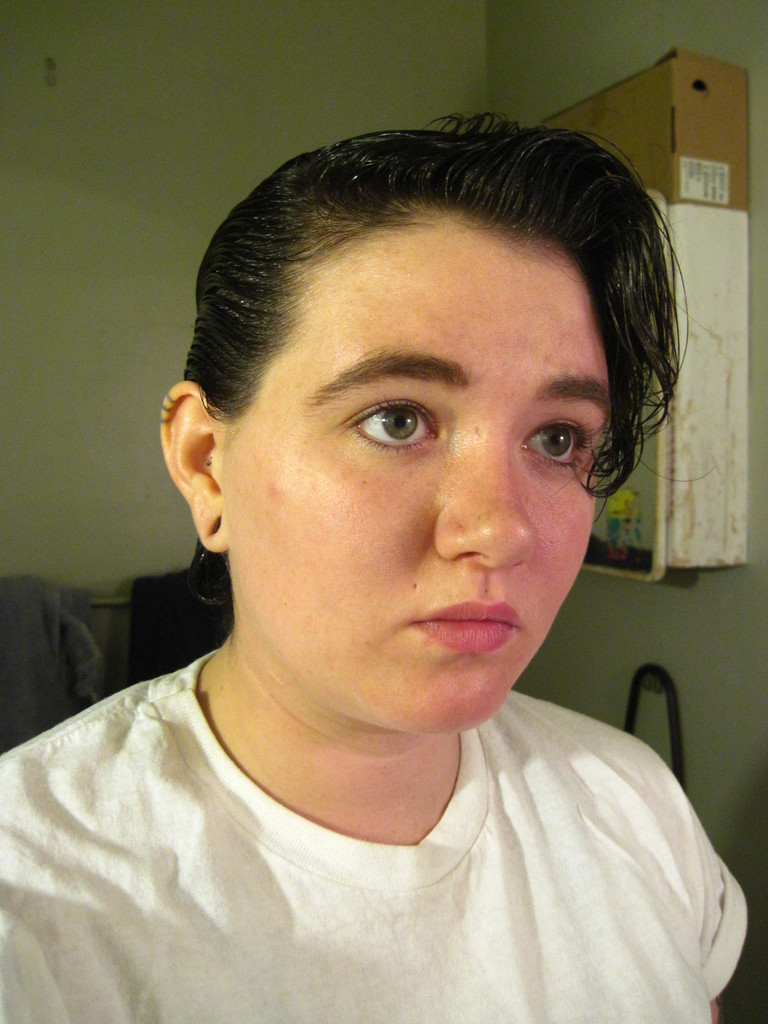Person: (0, 111, 748, 1024)
